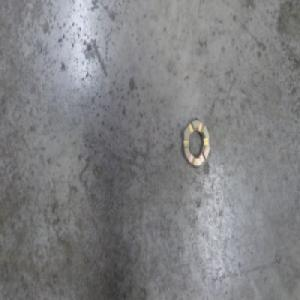Nut: (182, 115, 210, 170)
